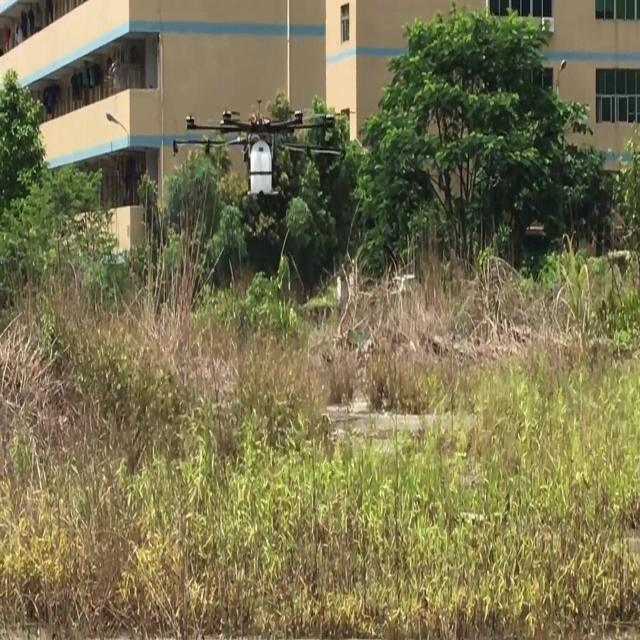drone: (167, 102, 347, 200)
